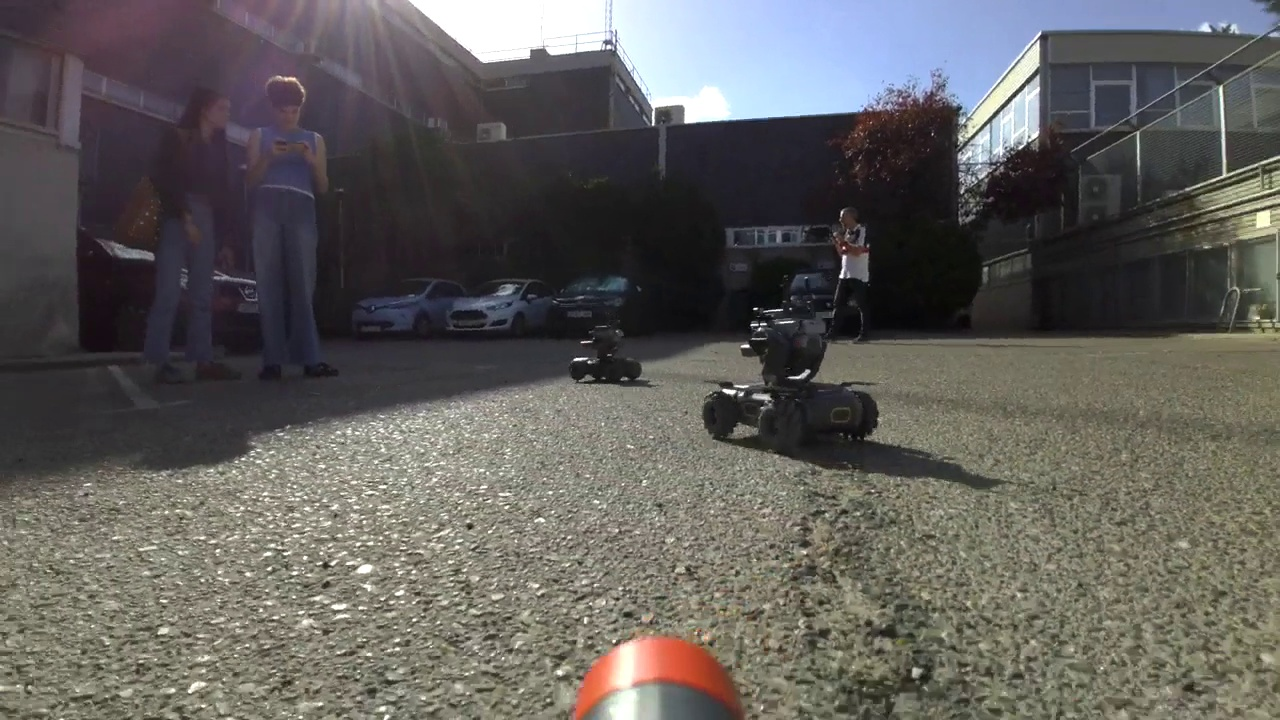robot: (701, 274, 880, 453), (569, 319, 643, 386)
